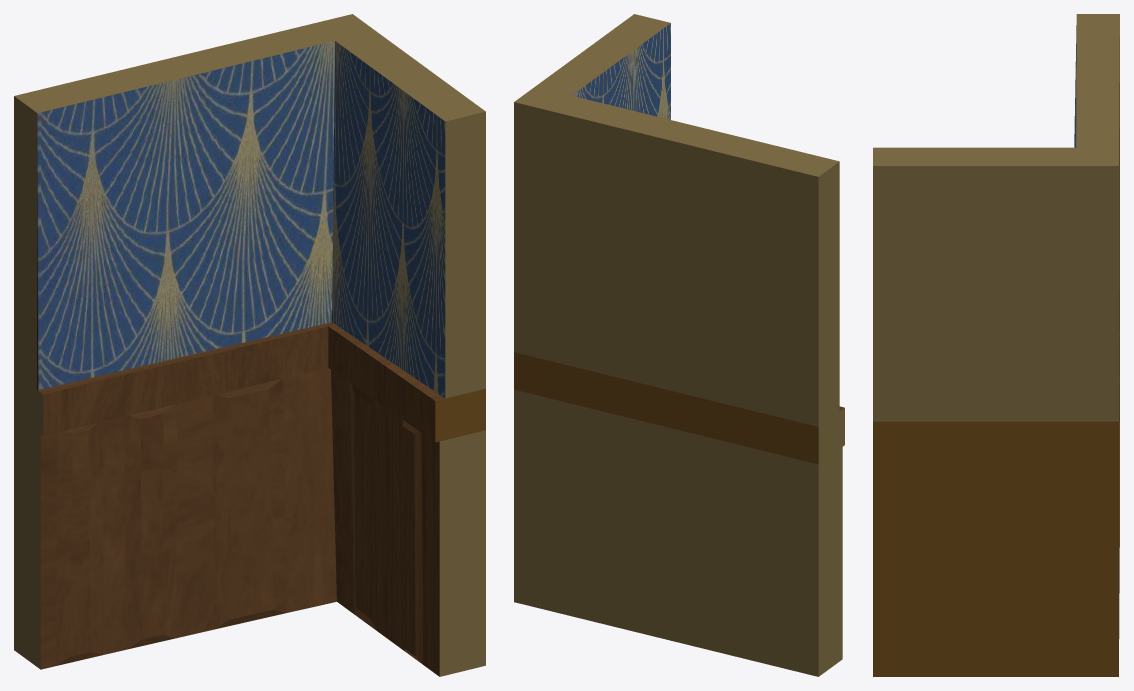
Rendered from Murcoin.glb.
3 views of the same model, side by side, from view 1: azimuth 30°, elevation 25°; view 2: azimuth 150°, elevation 25°; view 3: azimuth 270°, elevation 25° (orthographic). The views are drawn at different scales.
Parts seen in each view (by area): view 1: Mur de coin; view 2: Mur de coin; view 3: Mur de coin.
Part boxes in pixels (<box>): Mur de coin: <box>14,14,485,676</box>; Mur de coin: <box>514,14,844,676</box>; Mur de coin: <box>873,14,1119,676</box>.
Size of the model in its own units: 1.28 by 2 by 0.8763.
Materials: 5 (2 with a texture image).
